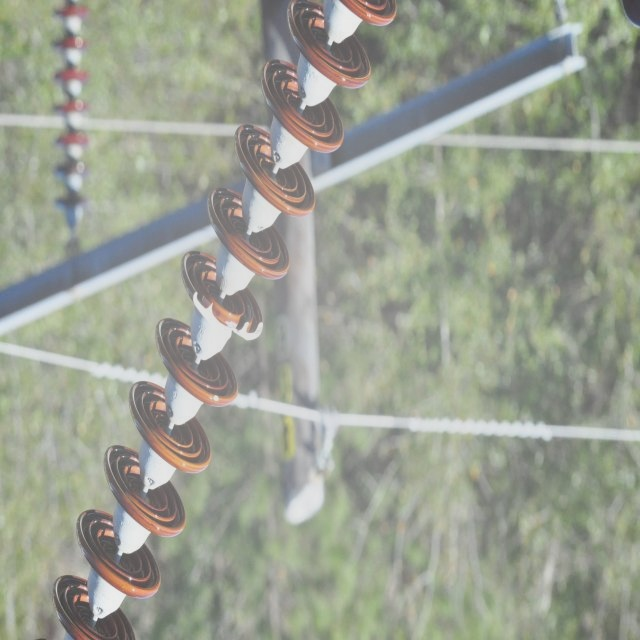broken: (191, 288, 263, 340)
insulator: (52, 4, 397, 638), (53, 0, 91, 208)
